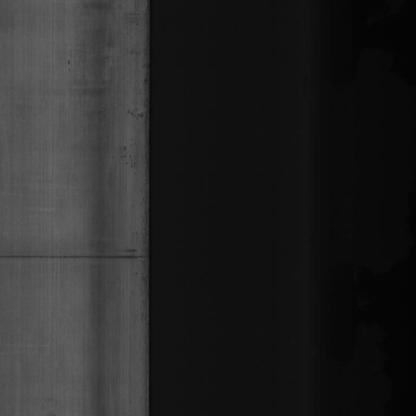crease: (0, 242, 148, 271)
